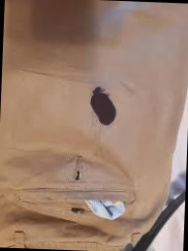ink: (89, 89, 119, 128)
